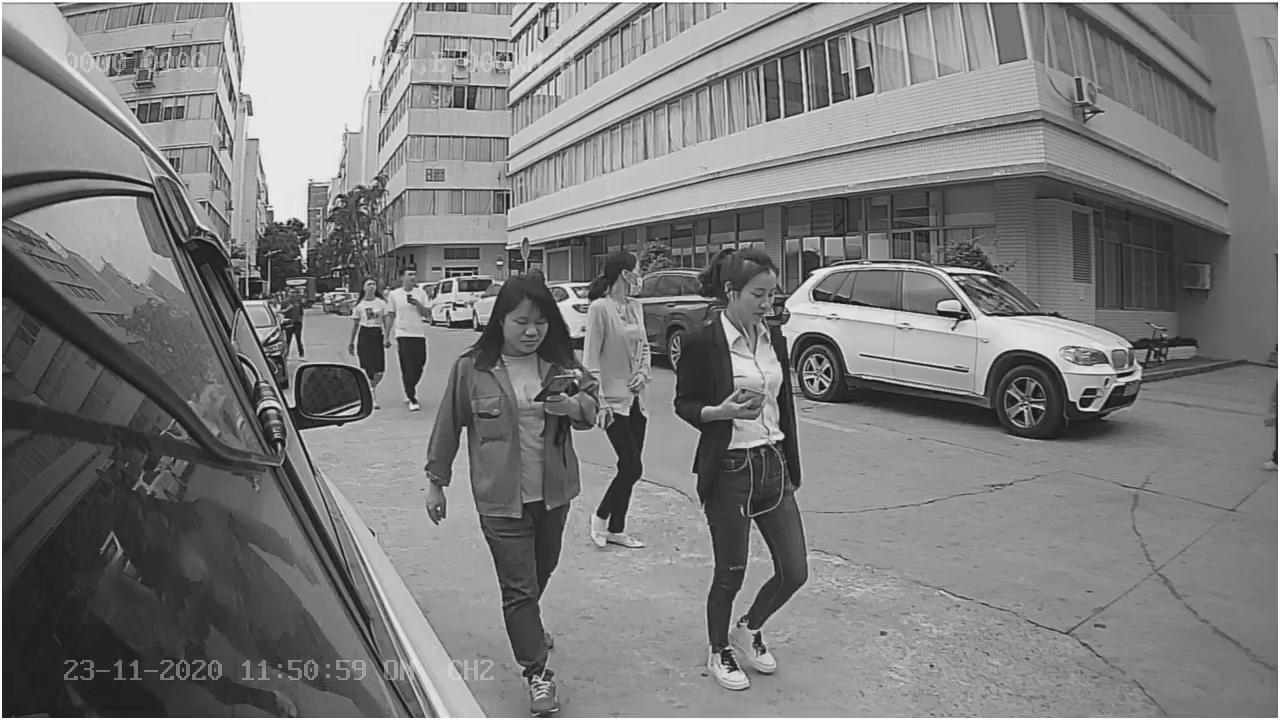person: (673, 247, 816, 690), (417, 261, 603, 525)
